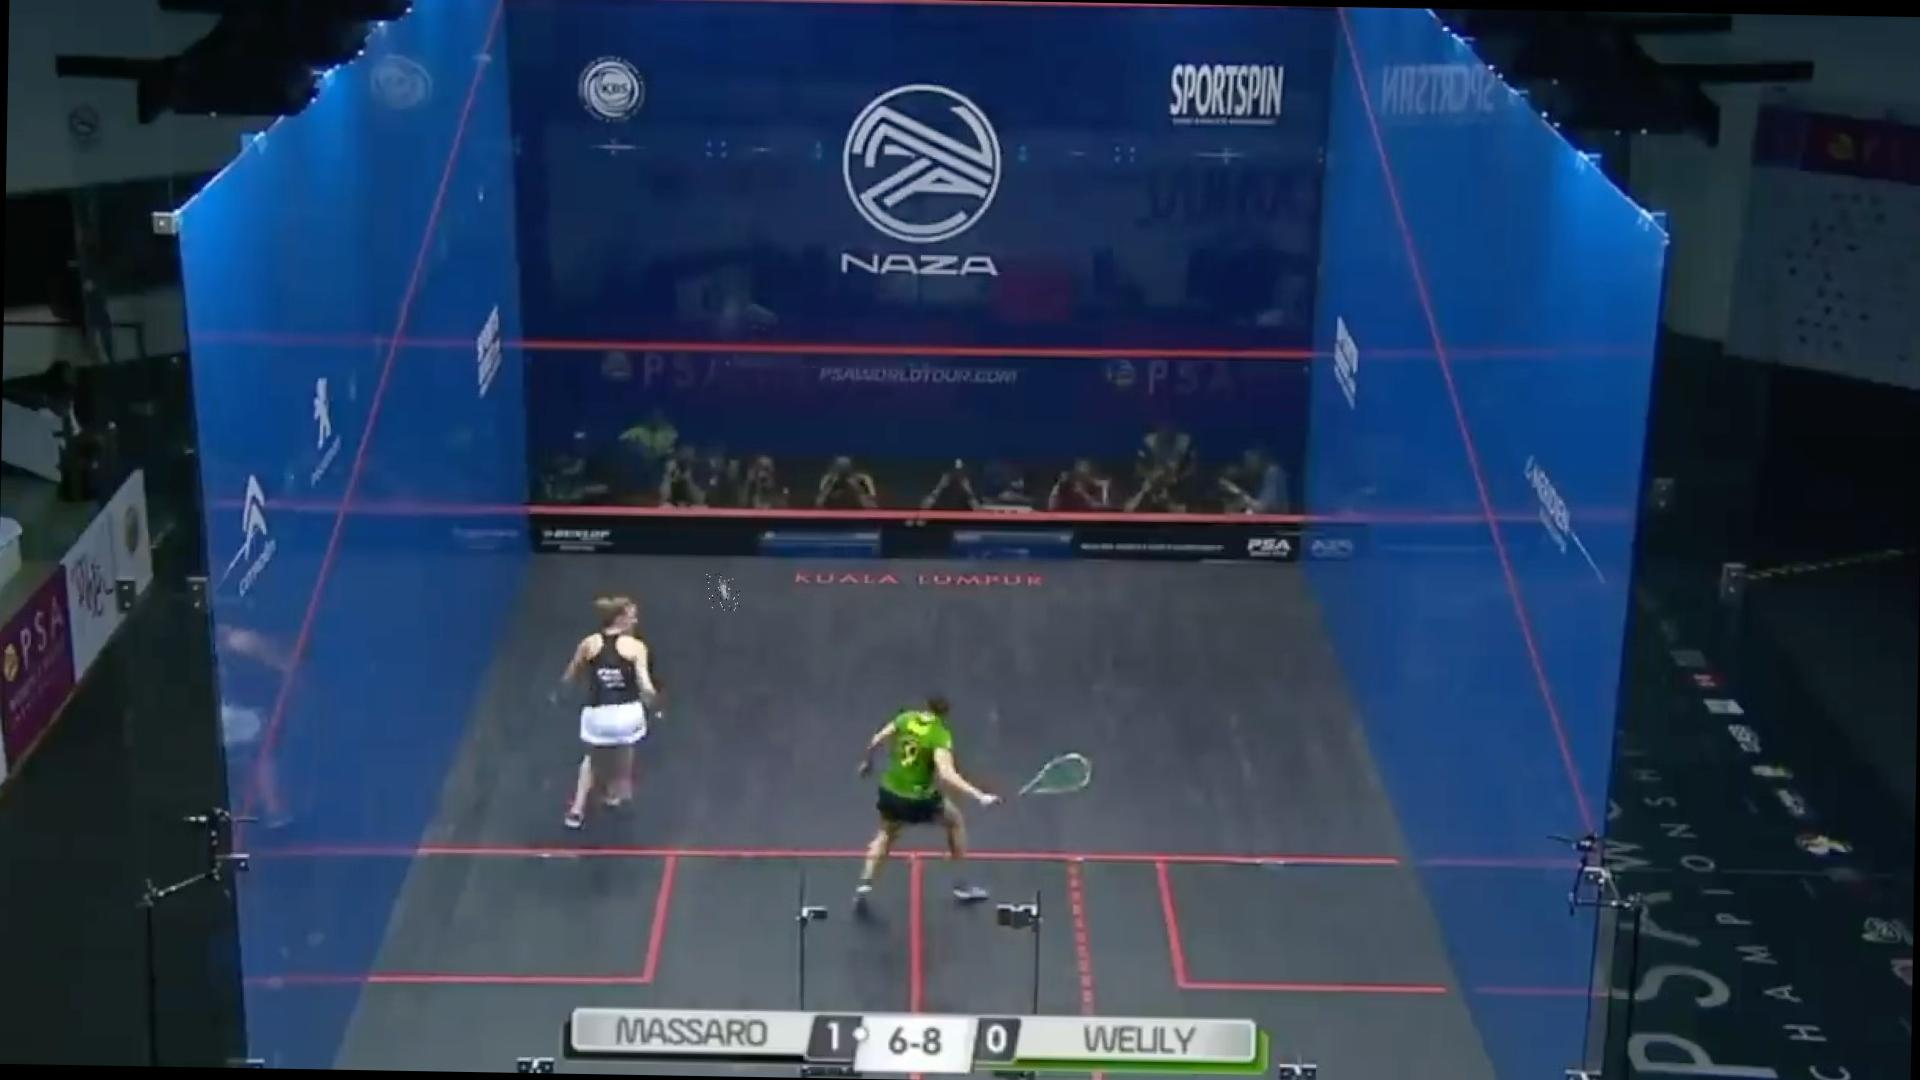Squash-Ball: (705, 574, 741, 611)
